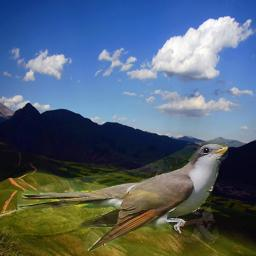Cuckoo: (17, 143, 228, 251)
